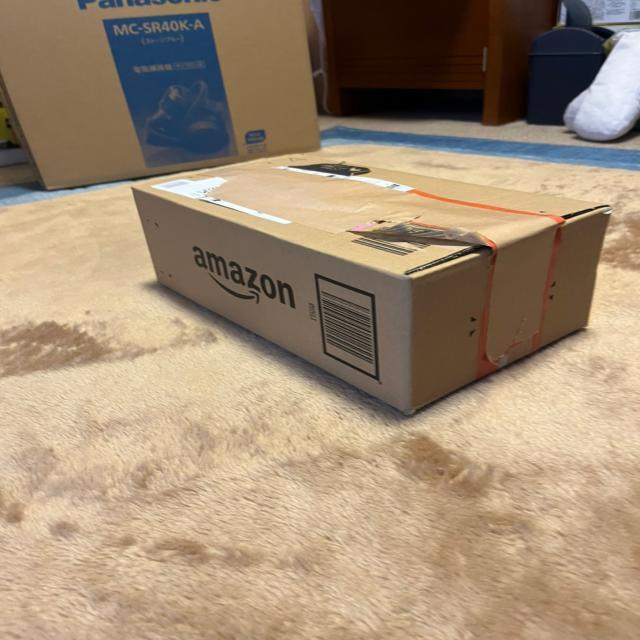-: (122, 147, 624, 420)
